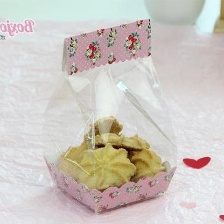snack: (35, 11, 185, 218)
